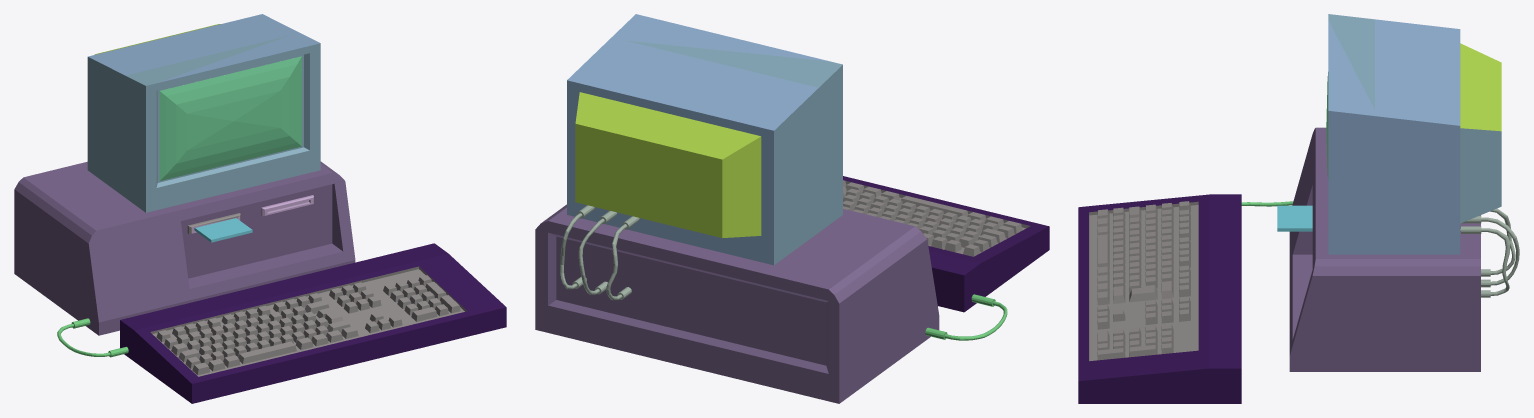
3 renders of one model, left to right at view 1: azimuth 30°, elevation 25°; view 2: azimuth 150°, elevation 25°; view 3: azimuth 270°, elevation 25°, orthographic. The views are drawn at different scales.
Visible parts, largest first — view 1: world; view 2: world; view 3: world.
Part boxes in pixels (box(x1,y1,x2,y2)): world: box(14, 14, 506, 403); world: box(535, 14, 1049, 403); world: box(1078, 14, 1519, 403).
Size of the model in its own units: 1 by 0.5985 by 0.9526.
